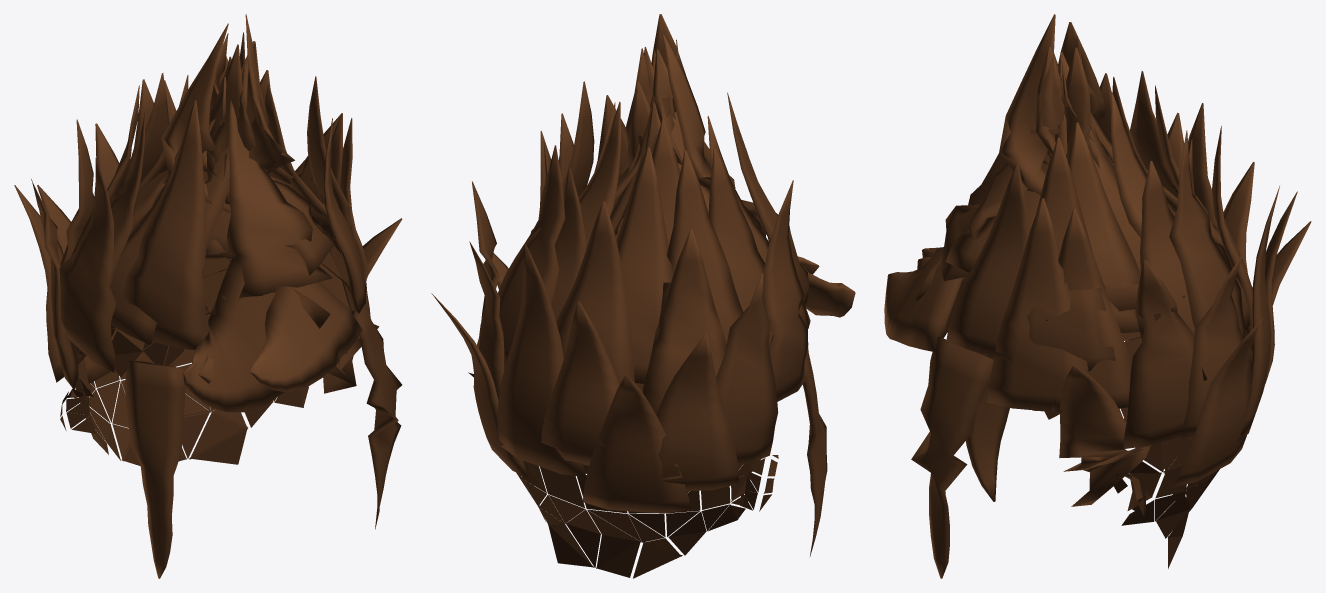
The model's file is kopf.haar.wuschel_hoch.glb.
3 renders of one model, left to right at view 1: azimuth 30°, elevation 25°; view 2: azimuth 150°, elevation 25°; view 3: azimuth 270°, elevation 25°, orthographic. The views are drawn at different scales.
Parts seen in each view (by area): view 1: haar; view 2: haar; view 3: haar.
Part boxes in pixels (x1,y1,x2,y2): haar: [14, 14, 402, 578]; haar: [431, 14, 855, 578]; haar: [884, 14, 1311, 578].
Size of the model in its own units: 0.2167 by 0.3314 by 0.2344.
